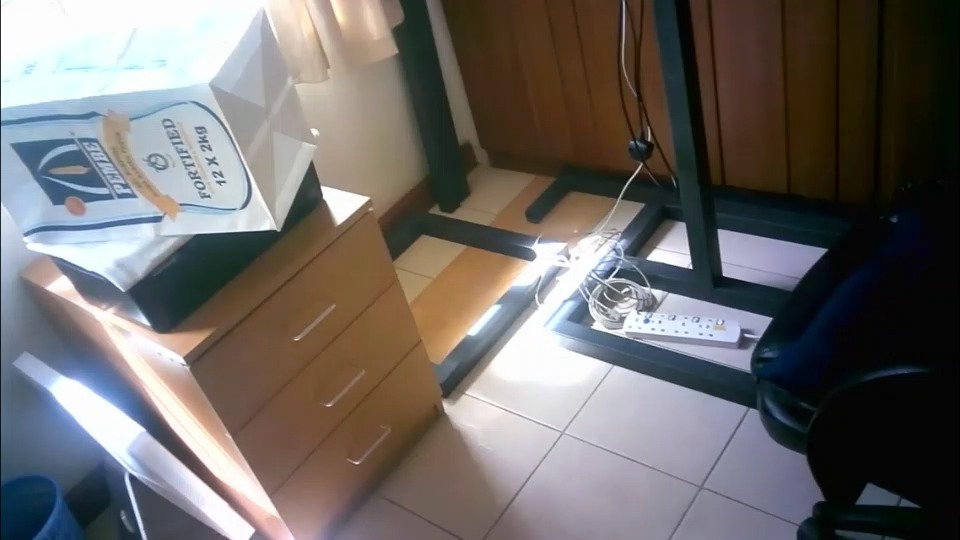wheat_flour_blue_label: (2, 10, 319, 231)
